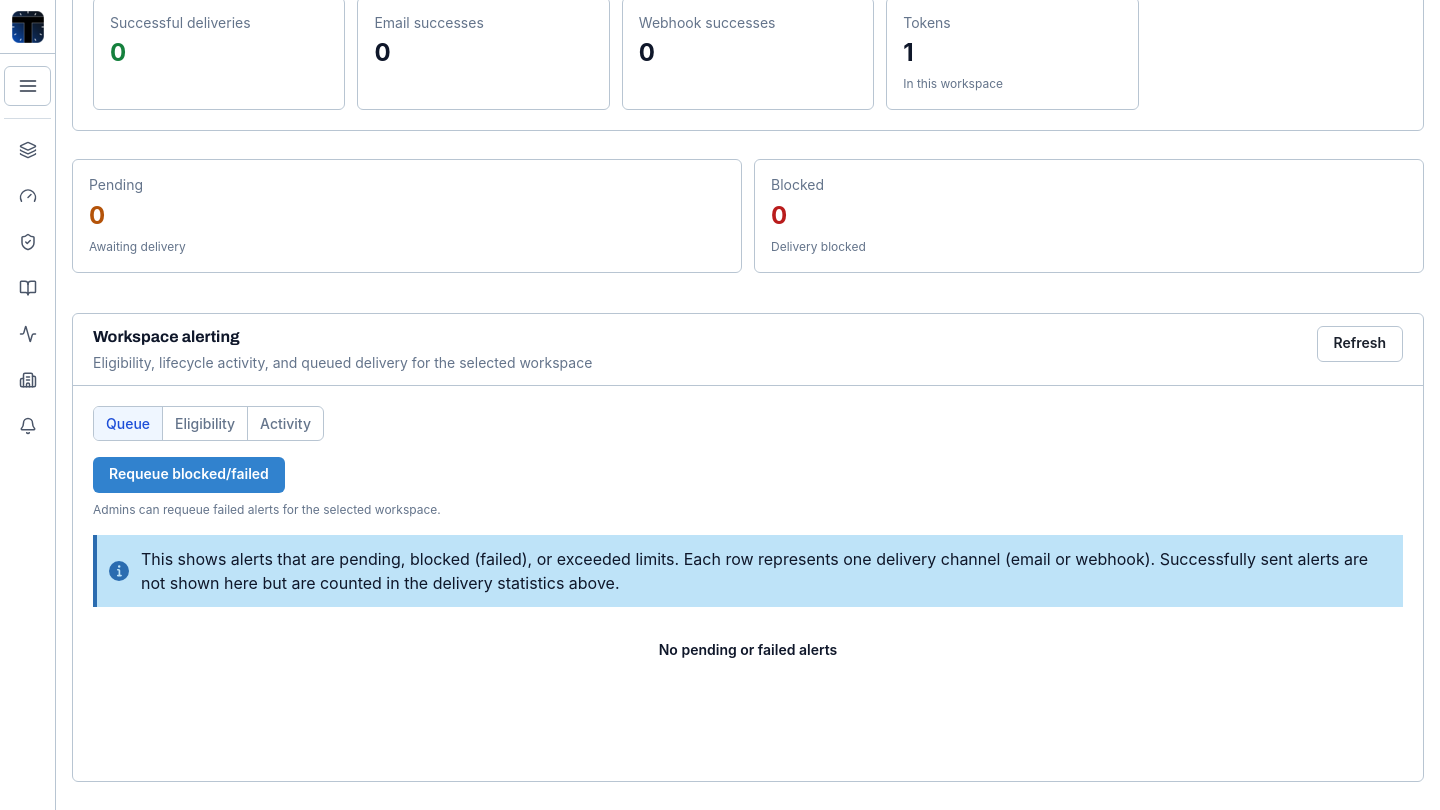
Test: Control Center recent alert activity › renders dedicated workspace events with an asset deep link
The width and height of the screenshot is (1440, 810).
(page scrolled)
Expected: the heading "Workspace alerting" is shown, left=93, top=328, right=240, bottom=345
Click the tab with aria-label "Recent alert activity" at (285, 423), box left=247, top=407, right=323, bottom=440
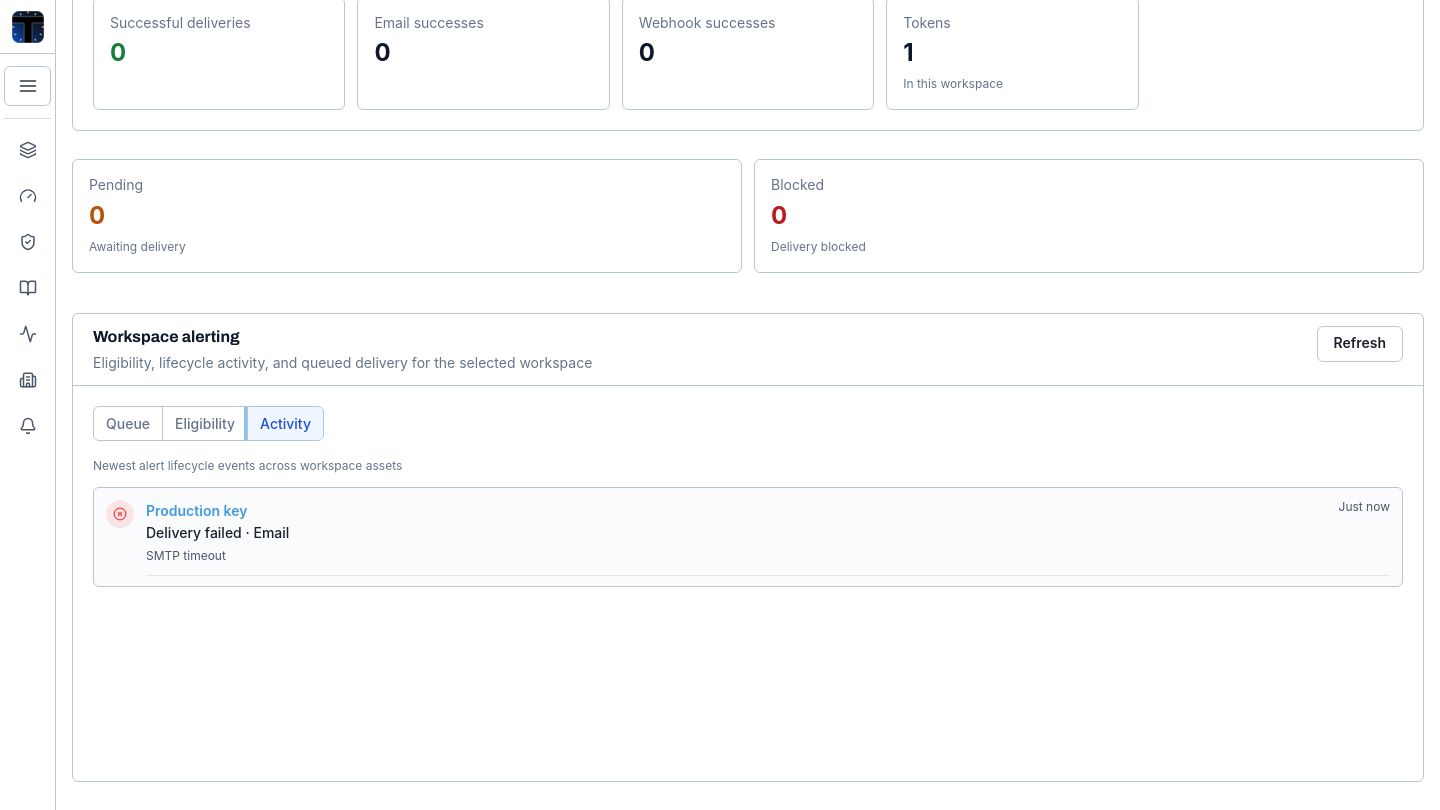
Result: the text "Delivery failed · Email" is shown at left=146, top=522, right=289, bottom=543
Result: the text "SMTP timeout" is shown at left=146, top=548, right=226, bottom=563
